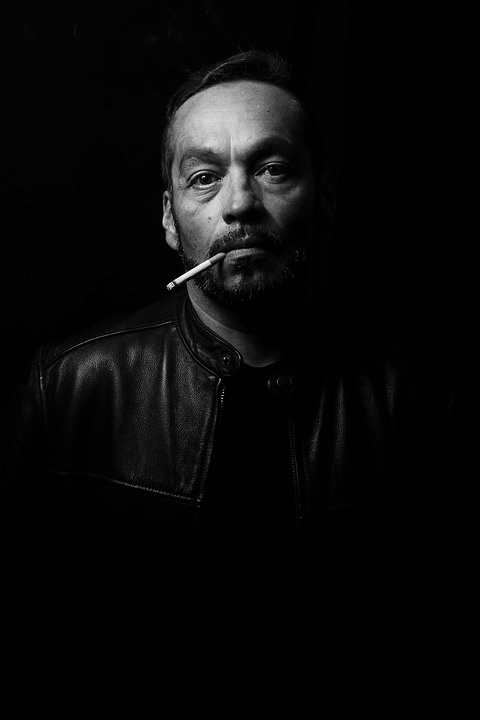sigaretta: (159, 249, 230, 296)
